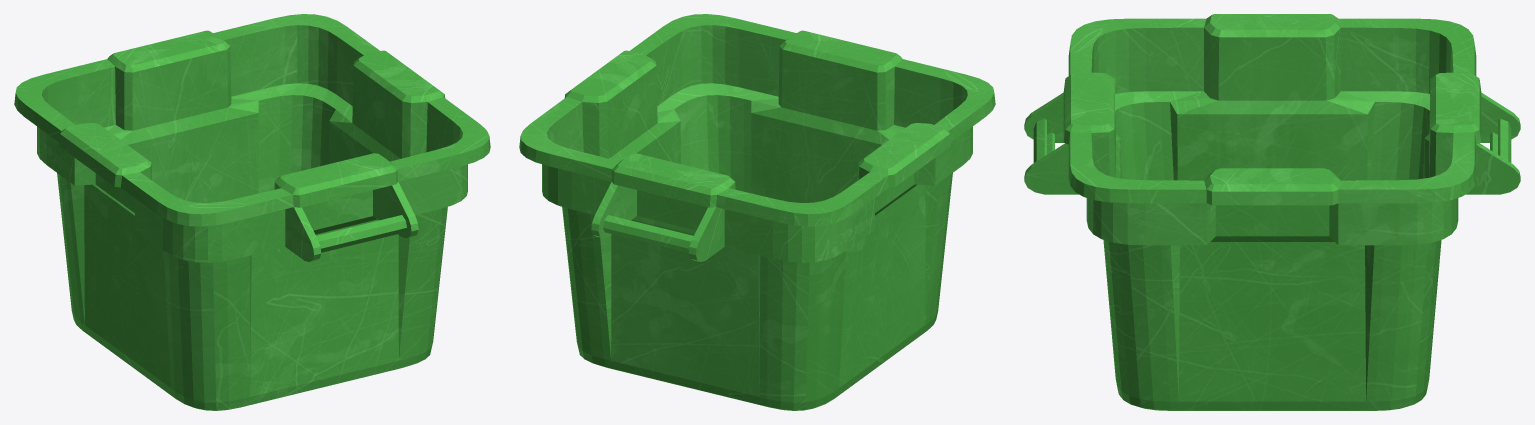
The model's file is green_bin.dae.
3 renders of one model, left to right at view 1: azimuth 30°, elevation 25°; view 2: azimuth 150°, elevation 25°; view 3: azimuth 270°, elevation 25°, orthographic. The views are drawn at different scales.
Parts seen in each view (by area): view 1: disposal_bin; view 2: disposal_bin; view 3: disposal_bin.
Part boxes in pixels (left/top/right/bottom): disposal_bin: left=14, top=14, right=490, bottom=410; disposal_bin: left=519, top=14, right=995, bottom=410; disposal_bin: left=1024, top=14, right=1520, bottom=410.
Bounding box in the file's own units: 0.7326 × 0.8713 × 0.4824.
1 material, 1 textured.
